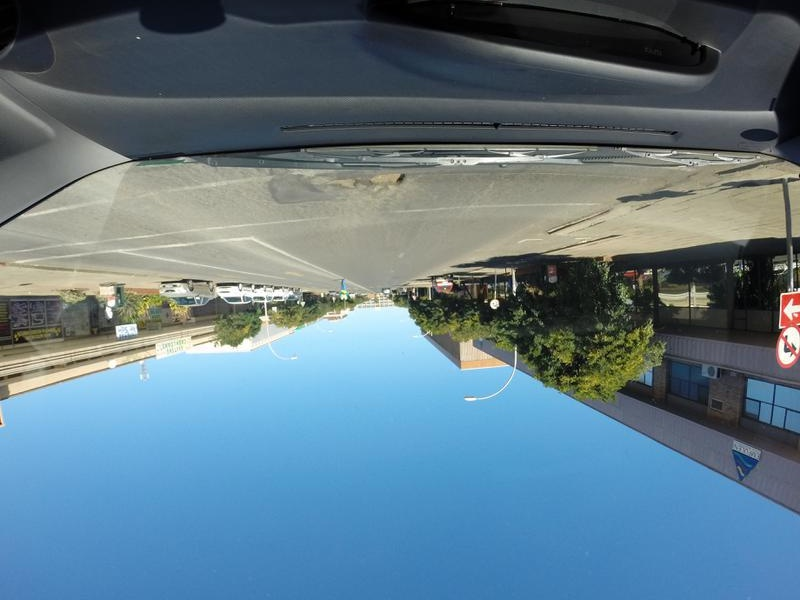pothole: (367, 173, 401, 193), (322, 177, 351, 194)
